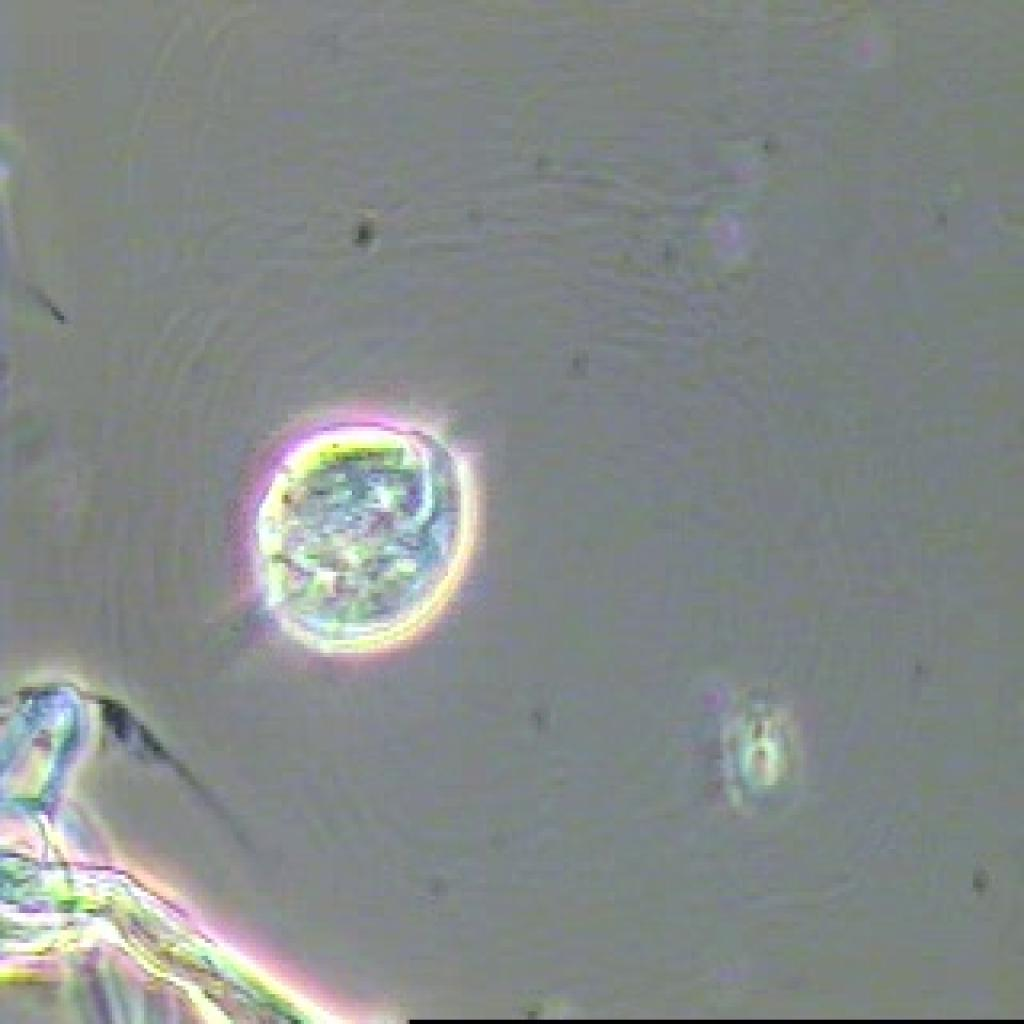Aspidisca: (184, 384, 507, 708)
